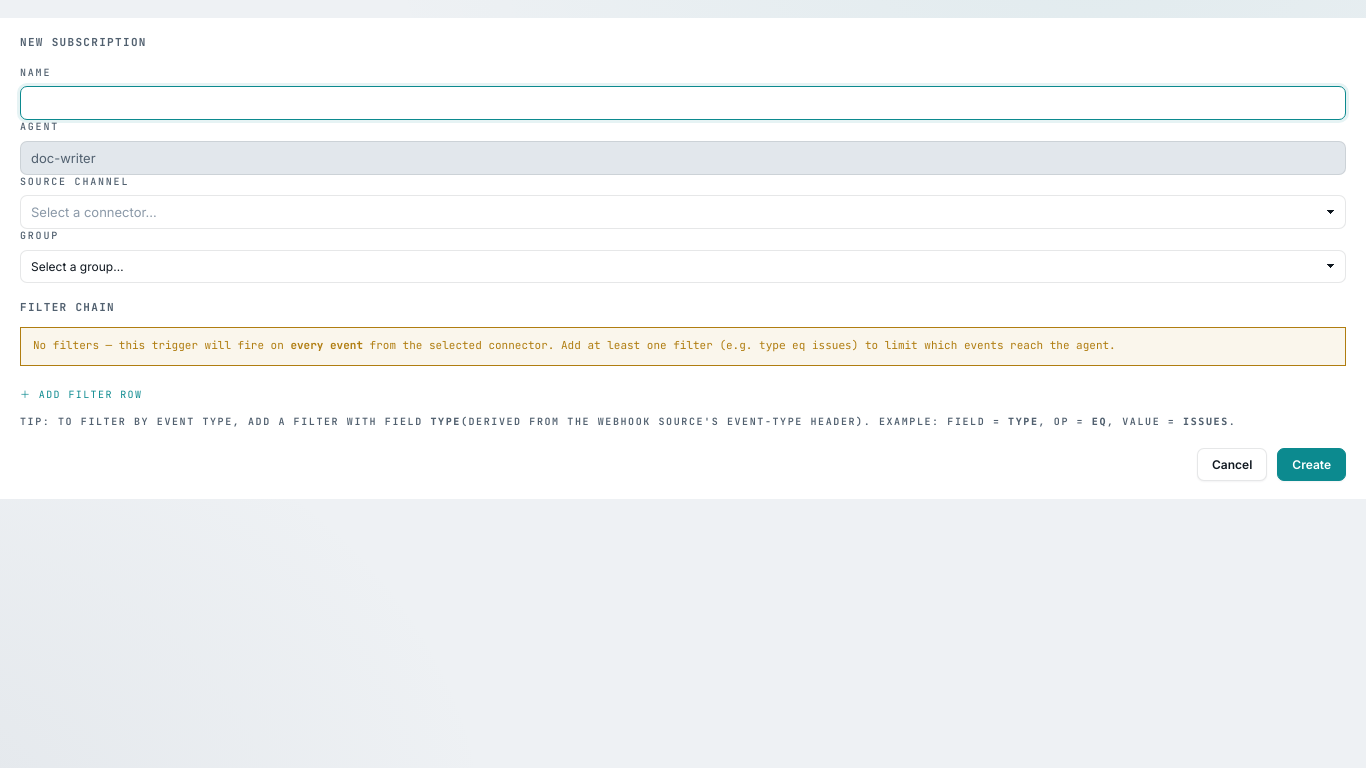
TriggerForm › shows validation errors for required fields
Click the button "Create" at (1312, 465), box left=1277, top=448, right=1346, bottom=481
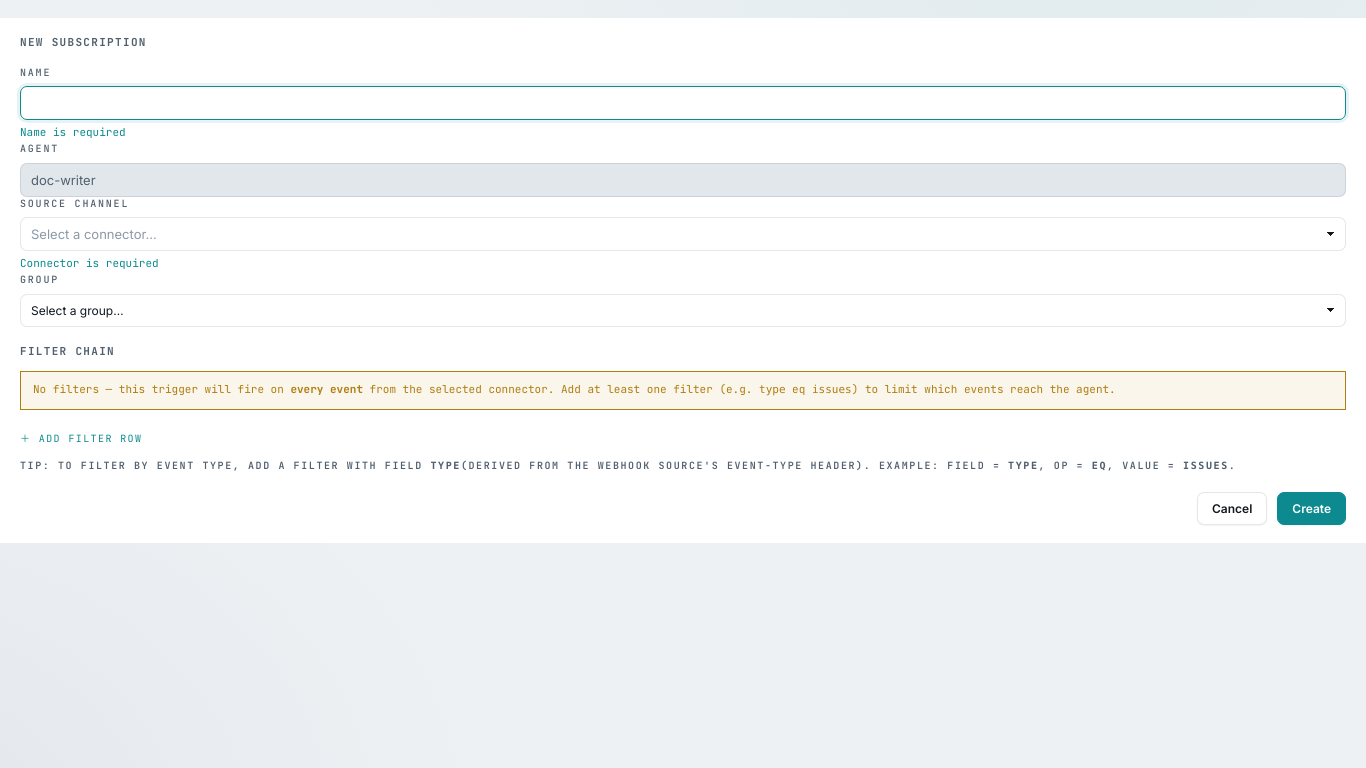
Check: the text "Name is required" is shown, box left=20, top=126, right=126, bottom=140
Check: the text "Connector is required" is shown, box left=20, top=257, right=159, bottom=271
